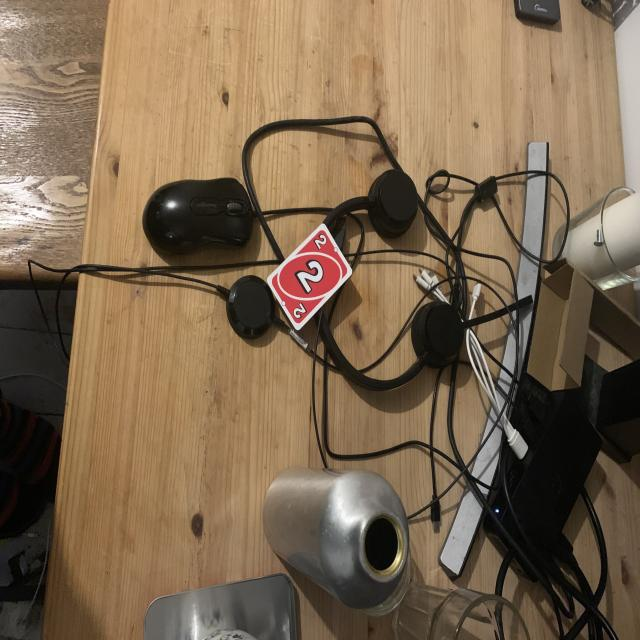lred-2: (313, 228, 326, 252)
